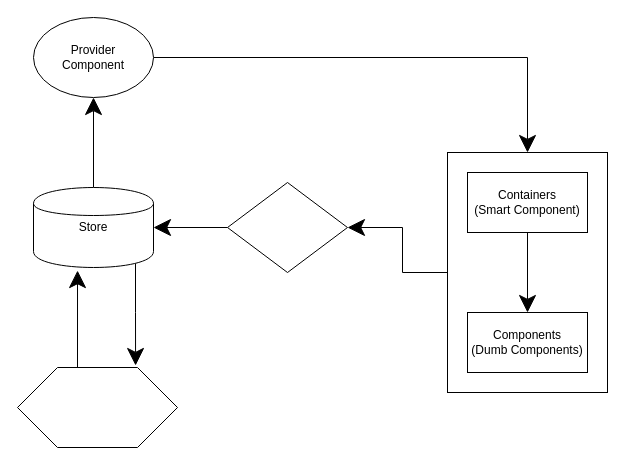
The diagram is 625 pixels wide and 465 high, and some of its shapes have lost their labels. The shapes that lost their labels are listed below. From the top down, each one's centre as x and y in pixels, then its label:
At (x=287, y=227): "Actions".
At (x=97, y=407): "Reducers".
